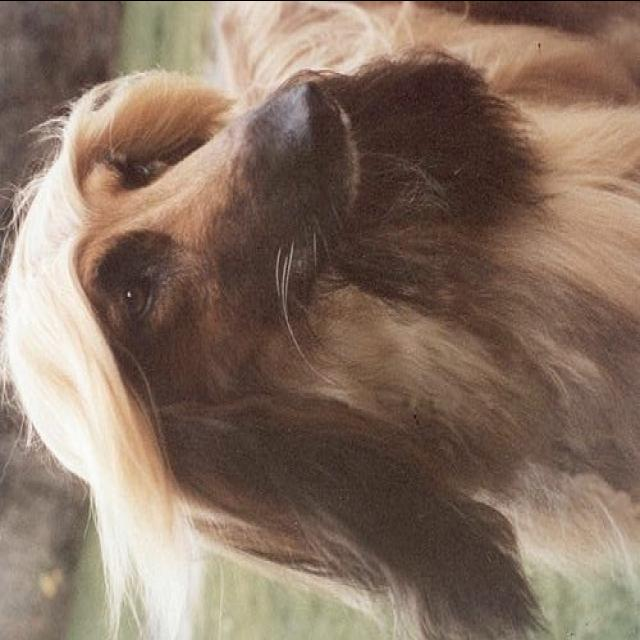afghan_hound: (1, 3, 638, 640)
